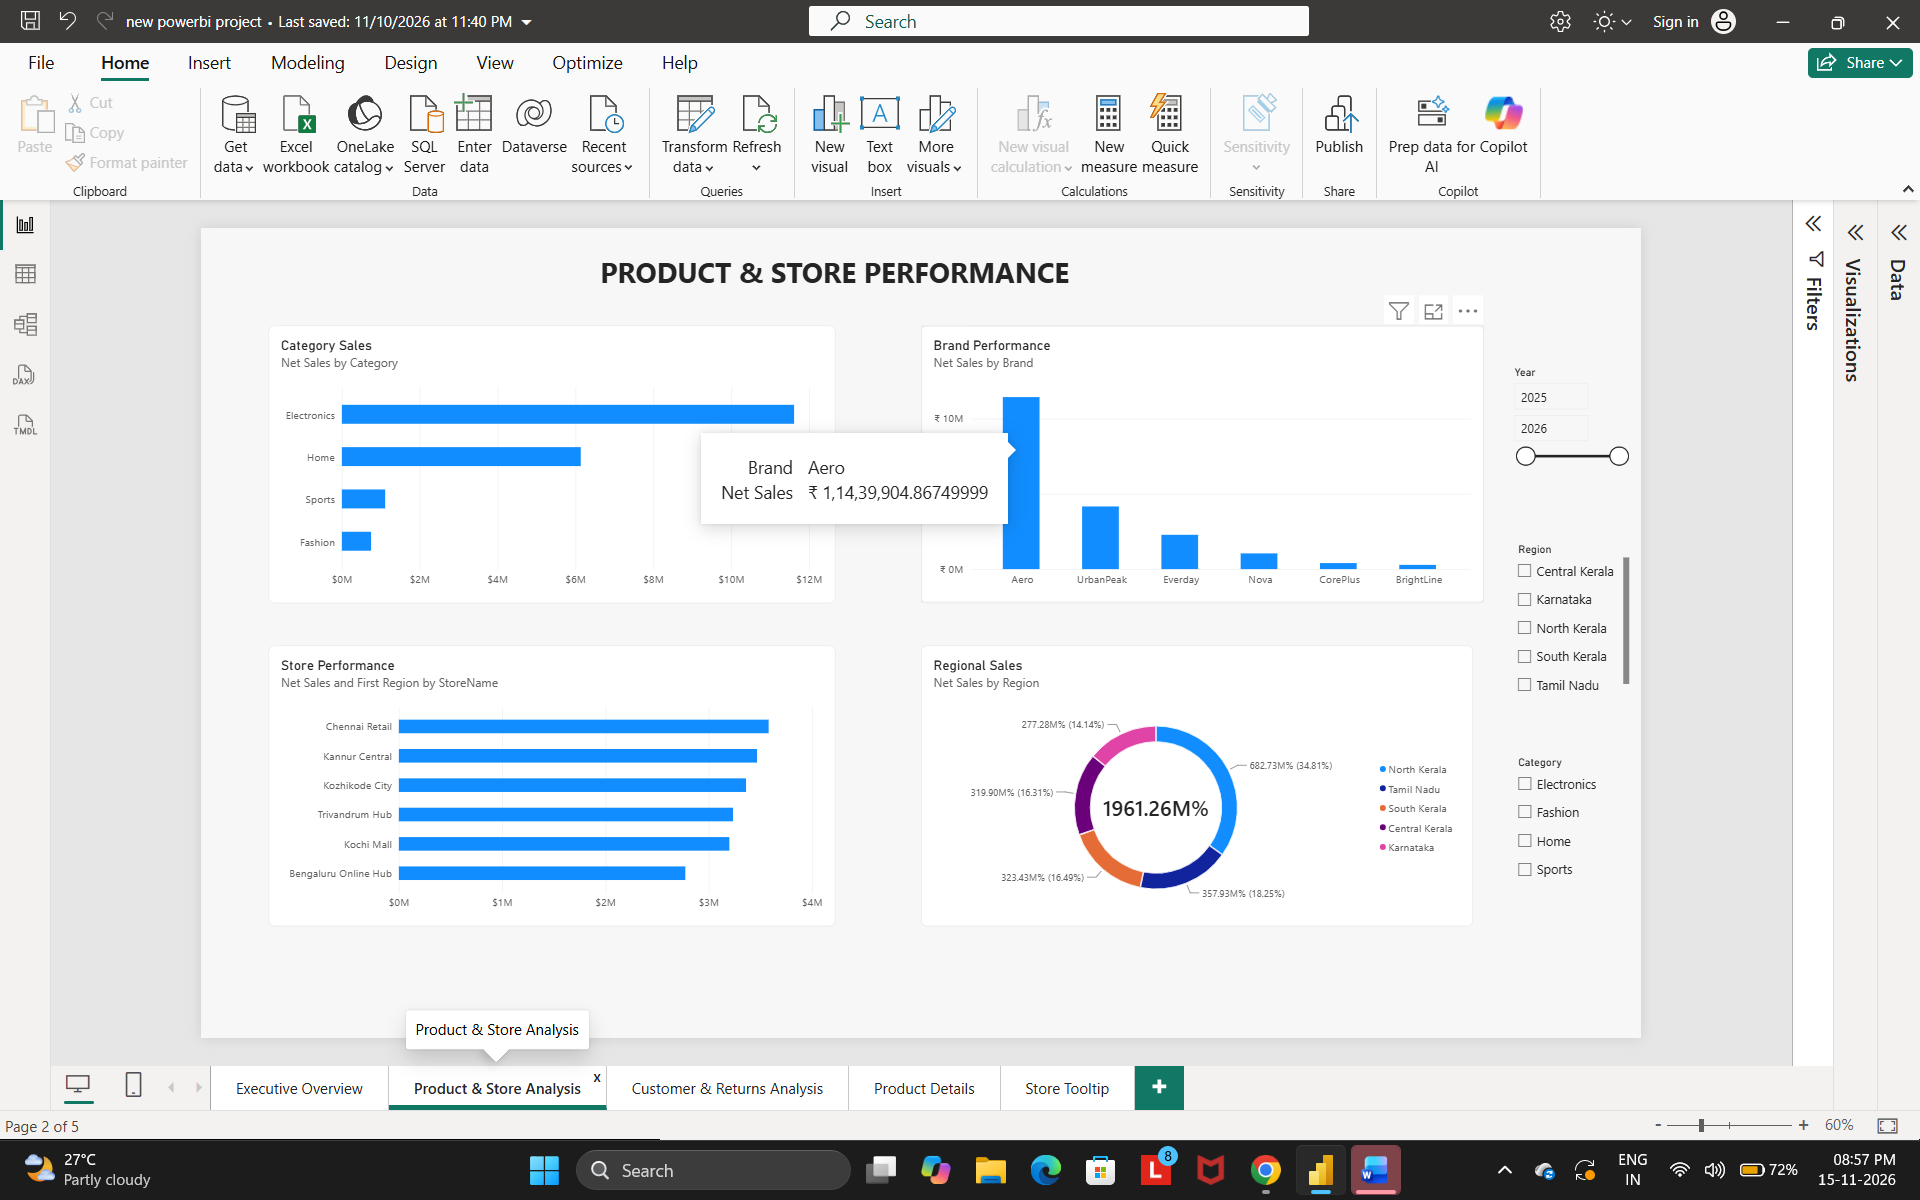

Layout of this report page (visuals, bound fields, positions):
{"tool":"powerbi","page":{"name":"Product & Store Analysis","canvas":[1920,1080],"ordinal":1},"visuals":[{"type":"clusteredColumnChart","title":"Brand Performance","fields":{"Category":["Products.Brand"],"Y":["Sales.Net Sales"]},"box":[960,130,750,370],"z":0},{"type":"clusteredBarChart","title":"Category Sales","fields":{"Category":["Products.Category"],"Y":["Sales.Net Sales"]},"box":[90,130,756,370],"z":1000},{"type":"barChart","title":"Store Performance","fields":{"Category":["Stores.StoreName"],"Y":["Sales.Net Sales"]},"box":[90,556,756,374],"z":2000},{"type":"donutChart","title":"Regional Sales","fields":{"Category":["Stores.Region"],"Y":["Sales.Net Sales"]},"box":[960,556,736,374],"z":3000},{"type":"textbox","box":[90,34,1510,76],"z":4000},{"type":"slicer","fields":{"Values":["Date Table.Year"]},"box":[1744,184,164,170],"z":5000},{"type":"slicer","fields":{"Values":["Stores.Region"]},"box":[1748,420,156,200],"z":6000},{"type":"slicer","fields":{"Values":["Products.Category"]},"box":[1748,704,132,226],"z":7000}]}

Visuals, with their boxes on the page's 1920x1080 design canvas (x1, y1, x2, y2). These are canvas units, not pixel positions in the 1920x1200 screenshot, which may show the page scaled, cropped or inside an application window:
"Brand Performance" clusteredColumnChart: <bbox>960, 130, 1710, 500</bbox>
"Category Sales" clusteredBarChart: <bbox>90, 130, 846, 500</bbox>
"Store Performance" barChart: <bbox>90, 556, 846, 930</bbox>
"Regional Sales" donutChart: <bbox>960, 556, 1696, 930</bbox>
textbox: <bbox>90, 34, 1600, 110</bbox>
slicer - Date Table.Year: <bbox>1744, 184, 1908, 354</bbox>
slicer - Stores.Region: <bbox>1748, 420, 1904, 620</bbox>
slicer - Products.Category: <bbox>1748, 704, 1880, 930</bbox>
